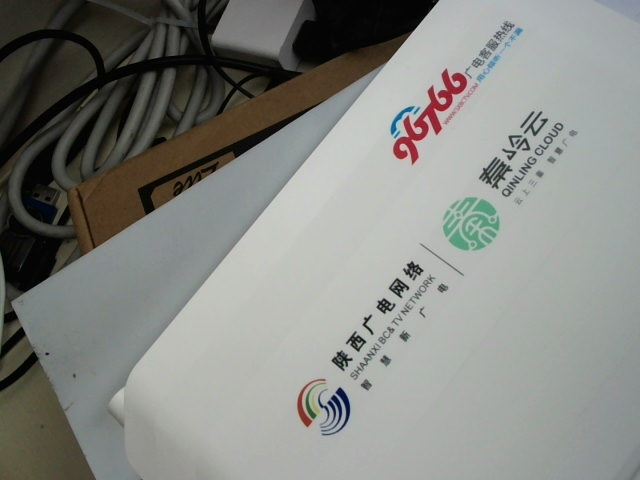QinLing: (425, 102, 582, 258)
